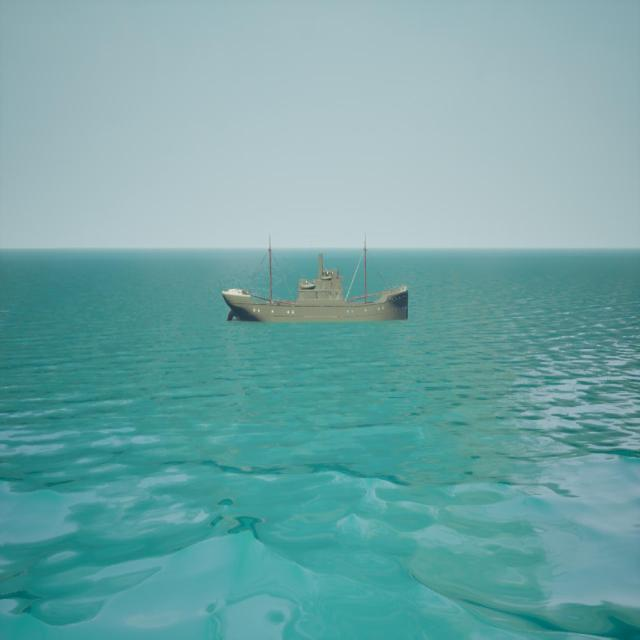fishing ship: (224, 233, 409, 325)
